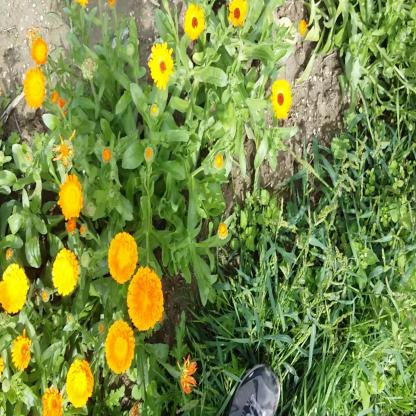marigold: (128, 268, 162, 329), (108, 232, 136, 284), (107, 321, 131, 372), (52, 249, 76, 296), (2, 266, 26, 312), (66, 358, 89, 406), (152, 46, 174, 89), (58, 174, 80, 217), (271, 77, 292, 120), (8, 334, 30, 369), (184, 4, 205, 40), (24, 69, 45, 104), (42, 388, 62, 416), (228, 0, 247, 28), (31, 38, 47, 63)
